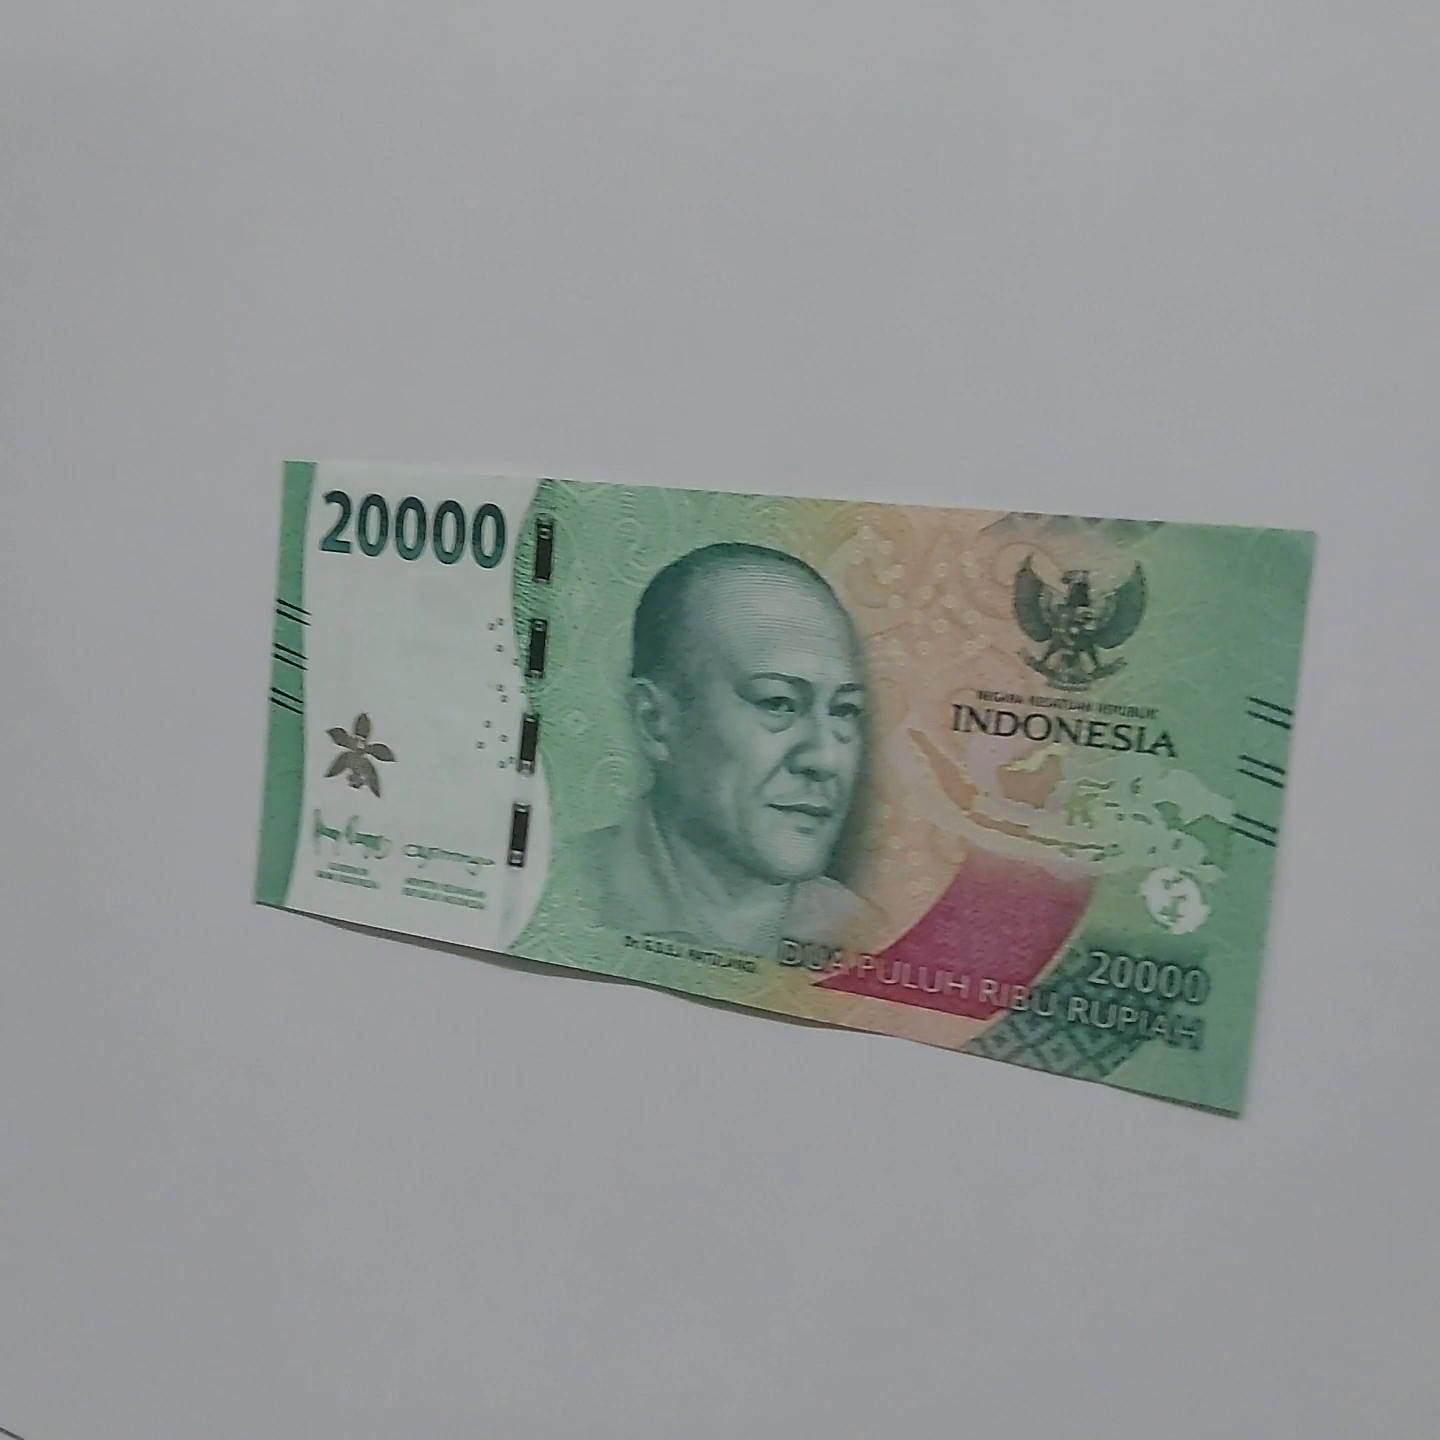20k: (240, 415, 1329, 1121)
